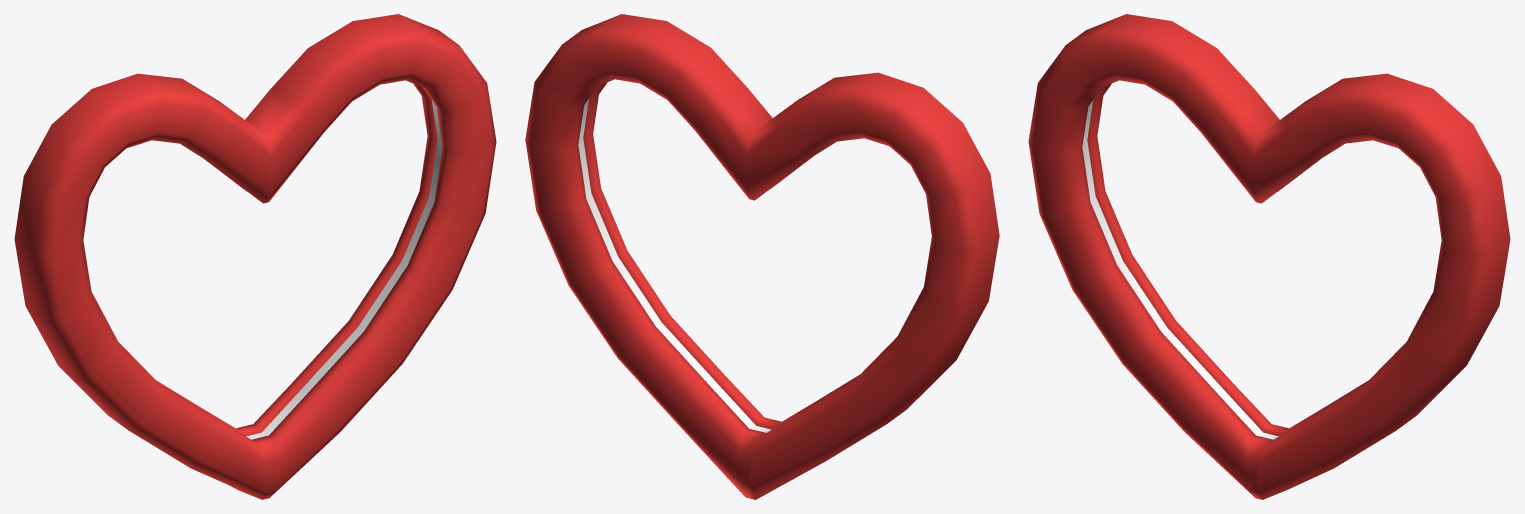
The model's file is decoration_001.gltf.
3 views of the same model, side by side, from view 1: azimuth 30°, elevation 25°; view 2: azimuth 150°, elevation 25°; view 3: azimuth 330°, elevation 25° (orthographic).
Visible parts, largest first — view 1: decoration_001; view 2: decoration_001; view 3: decoration_001.
Boxes of the visible parts, x1,y1,x2,y2 form: decoration_001: [14, 14, 496, 499]; decoration_001: [525, 14, 999, 499]; decoration_001: [1028, 14, 1510, 499].
Size of the model in its own units: 21.64 by 19.85 by 2.68.
Materials: 2 (1 with a texture image).
